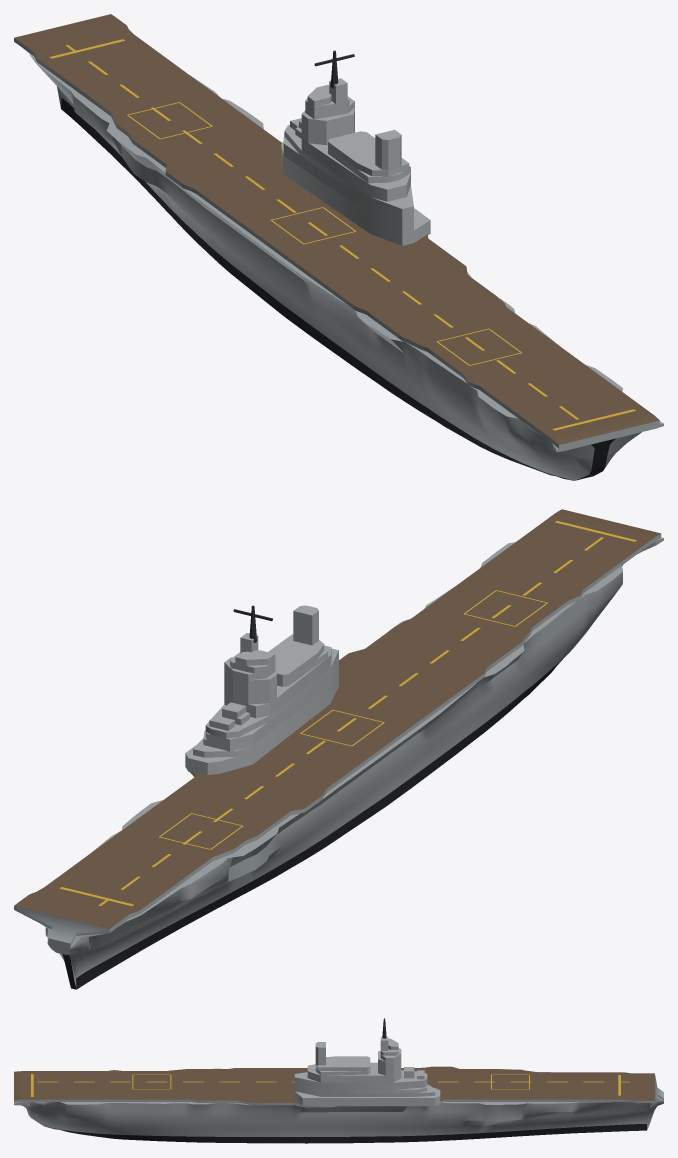
Rendered from traeger_enterprise.glb.
3 views of the same model, one above another, from view 1: azimuth 30°, elevation 25°; view 2: azimuth 150°, elevation 25°; view 3: azimuth 270°, elevation 25° (orthographic). The views are drawn at different scales.
Visible parts, largest first — view 1: traeger_enterprise; view 2: traeger_enterprise; view 3: traeger_enterprise.
Part boxes in pixels (x1,y1,x2,y2): traeger_enterprise: (14,14,663,480); traeger_enterprise: (14,509,663,989); traeger_enterprise: (14,1018,663,1143).
Bounding box in the file's own units: 35.32 × 52.21 × 250.
